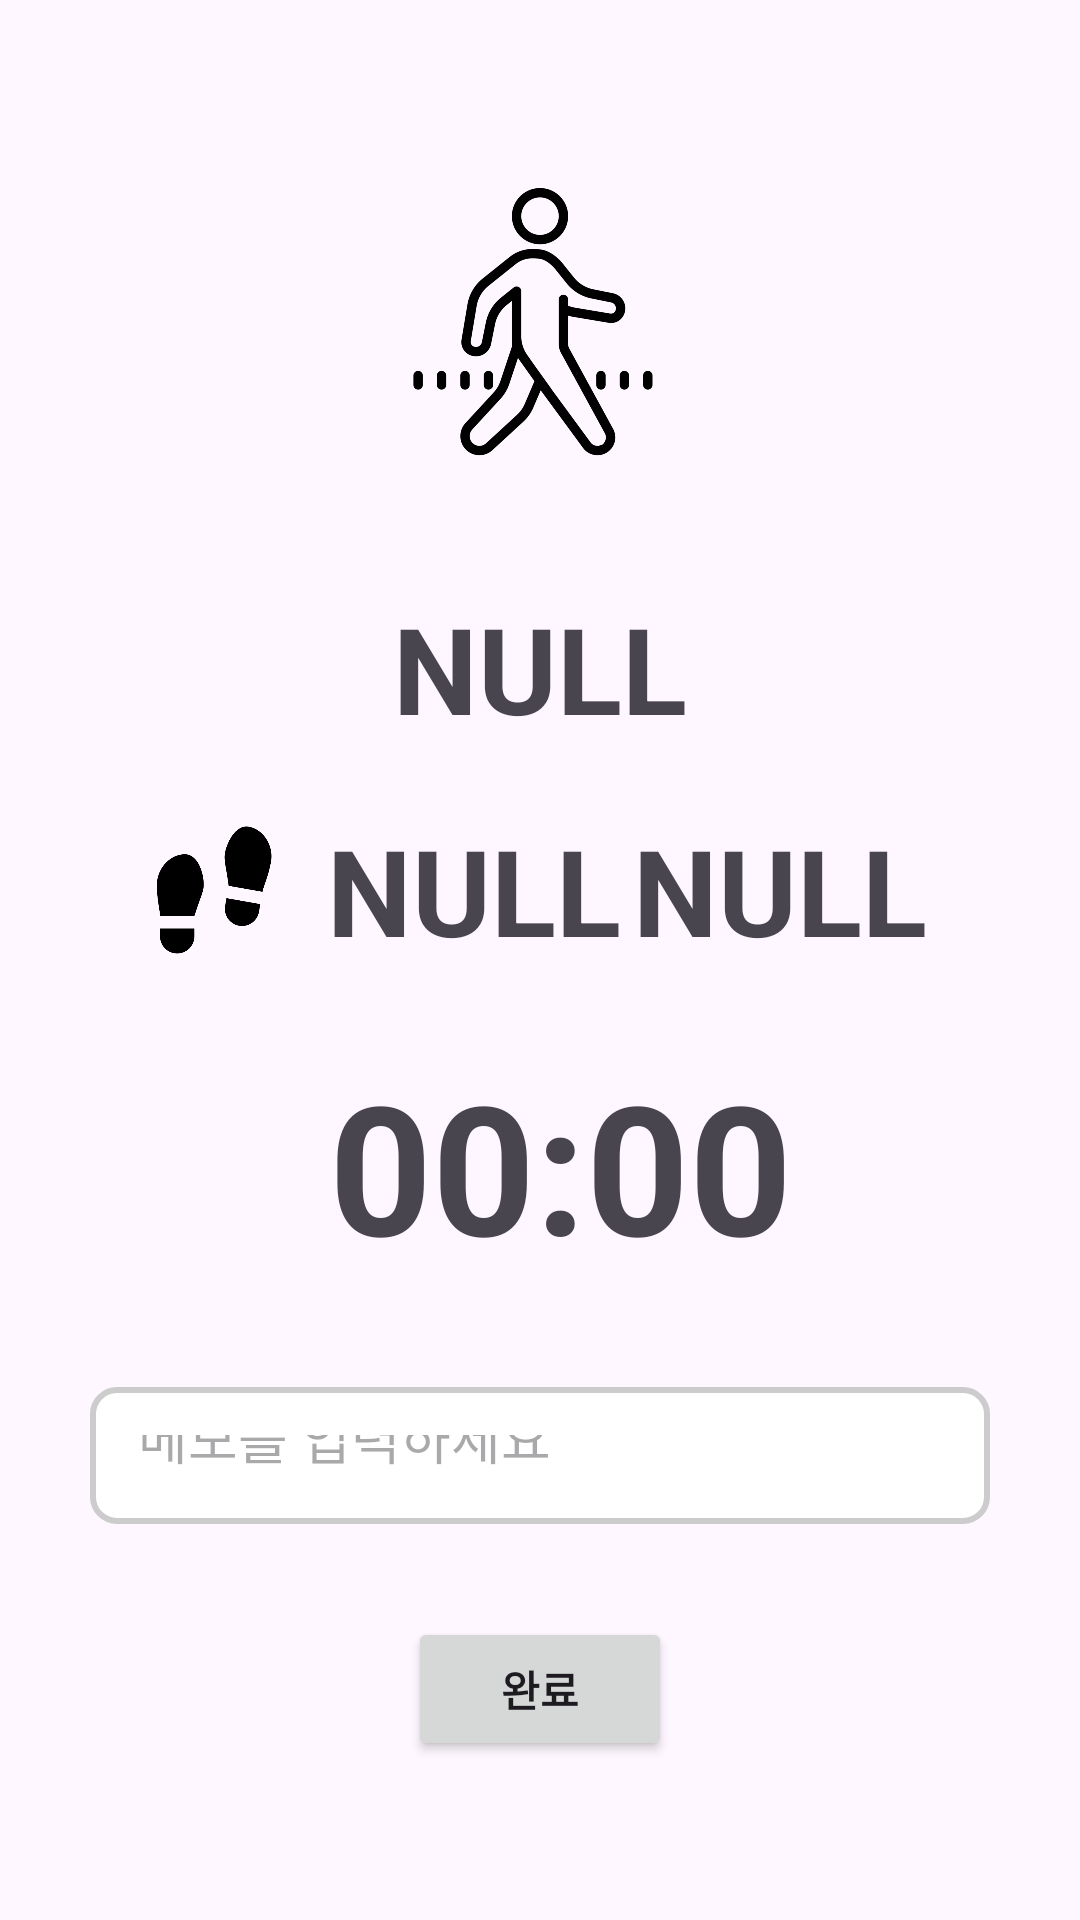

Icons on this 1080x1920 Android screen, each with its box as (x1, y1, x2, y2):
step: (157, 826, 272, 954)
walk: (413, 188, 653, 455)
